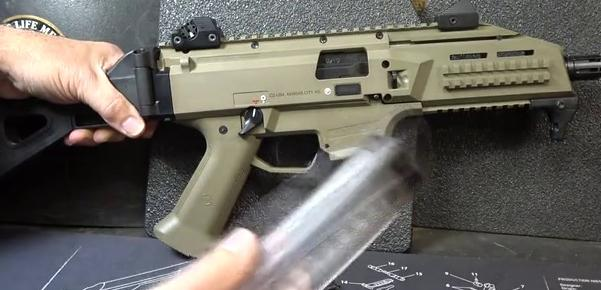gun: (1, 1, 601, 290)
